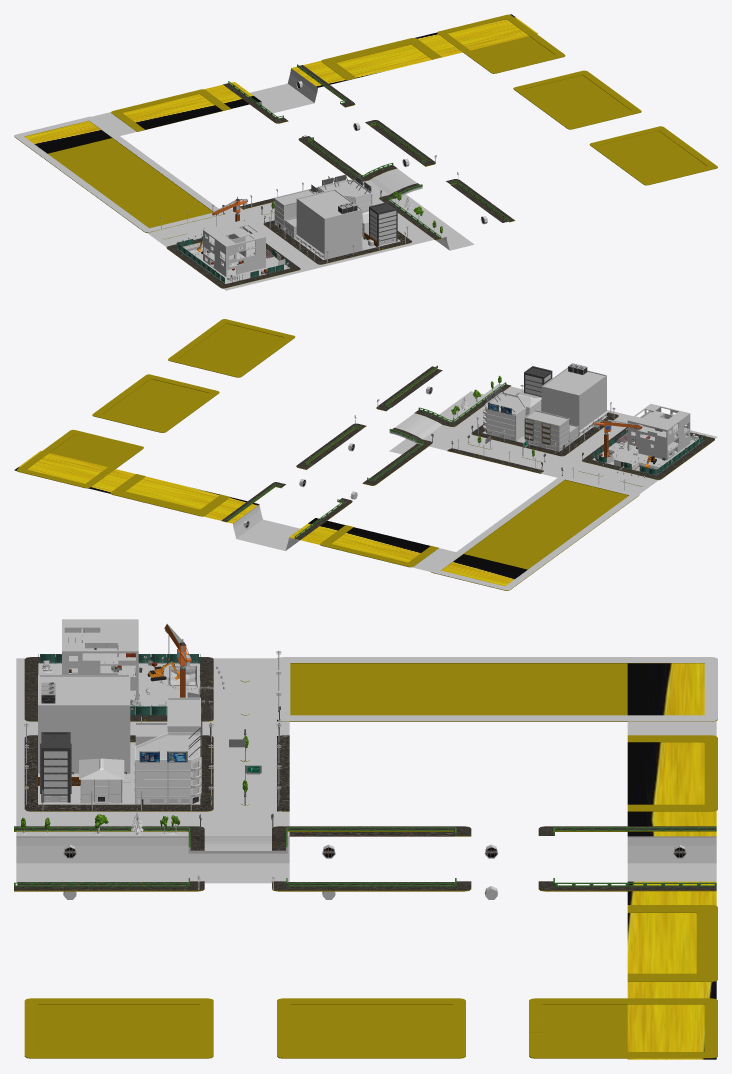
File: Scenario_FS.fbx
The picture shows the model from 3 angles, top to bottom: view 1: azimuth 30°, elevation 25°; view 2: azimuth 150°, elevation 25°; view 3: azimuth 270°, elevation 25°; orthographic projection. The views are drawn at different scales.
Parts seen in each view (by area): view 1: Cuadras.002, Plane.002, E2.001, Cuadras.001, Cuadras.003, Edificio Constru Grande, Plane.006, Cuadras.006, E5.007, Plane.005, E13, E10; view 2: Cuadras.002, Plane.002, Cuadras.001, Cuadras.003, E2.001, Edificio Constru Grande, E13, Plane.006, E10, Cuadras.006, Plane.005, E5.007 (+1 smaller); view 3: Cuadras.002, Plane.002, Cuadras.001, Cuadras.003, Plane.006, E2.001, Edificio Constru Grande, E10, Cuadras.006, E5.007, e11, E13 (+3 smaller).
Boxes of the visible parts, x1,y1,x2,y2 form: Cuadras.002: (14,14,717,288); Plane.002: (24,14,537,290); E2.001: (295,189,362,259); Cuadras.001: (111,38,442,264); Cuadras.003: (223,65,515,240); Edificio Constru Grande: (203,220,265,276); Plane.006: (250,83,474,250); Cuadras.006: (228,64,509,238); E5.007: (369,202,397,245); Plane.005: (364,163,422,198); E13: (274,189,314,238); E10: (317,179,372,210); Cuadras.002: (16,319,714,590); Plane.002: (14,383,717,586); Cuadras.001: (110,412,618,567); Cuadras.003: (221,366,510,540); E2.001: (541,367,607,436); Edificio Constru Grande: (627,404,690,460); E13: (524,410,578,451); Plane.006: (236,391,483,550); E10: (483,392,526,441); Cuadras.006: (226,365,506,538); Plane.005: (389,407,446,443); E5.007: (524,366,552,397); Cuadras.002: (24,657,717,1058); Plane.002: (16,658,716,1059); Cuadras.001: (24,735,717,981); Cuadras.003: (14,826,716,891); Plane.006: (16,863,716,883); E2.001: (38,675,130,773); Edificio Constru Grande: (62,619,138,700); E10: (134,732,201,804); Cuadras.006: (14,827,716,886); E5.007: (40,732,71,802); e11: (79,758,124,803); E13: (135,697,202,760).
Size of the model in its own units: 688 by 80.69 by 509.
